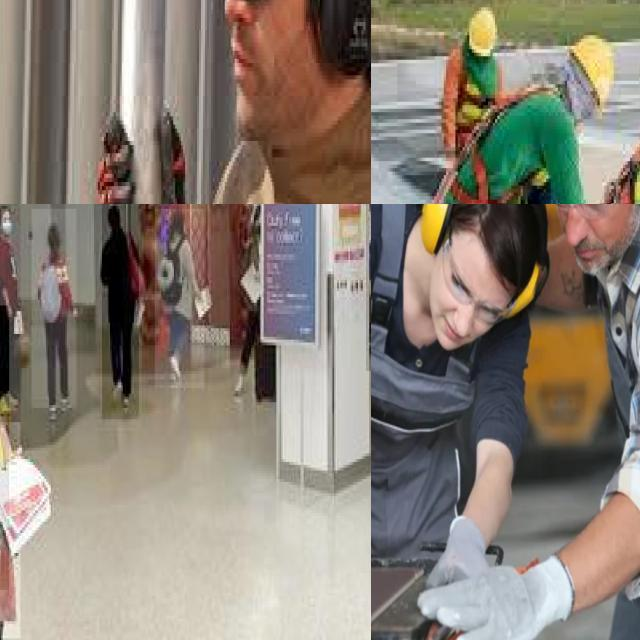Ear-protection: (408, 204, 543, 372), (545, 204, 640, 279)
Harness: (450, 148, 529, 204)
face_mask: (1, 208, 11, 232)
head_nohelmet: (42, 223, 64, 260), (110, 206, 121, 237)
person: (32, 209, 78, 411), (155, 209, 206, 391), (101, 204, 140, 422), (0, 204, 20, 422)
shoes: (166, 348, 184, 388), (230, 366, 249, 401), (57, 387, 73, 415), (118, 389, 132, 421), (45, 397, 60, 425), (108, 381, 122, 406)
